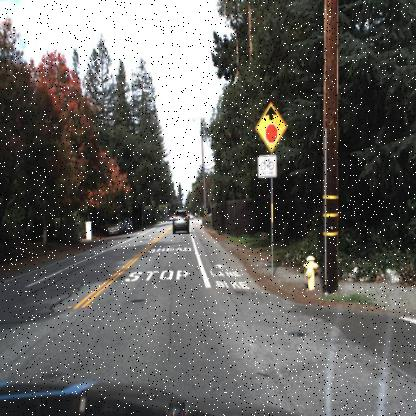car: (169, 208, 191, 239), (104, 216, 121, 239)
